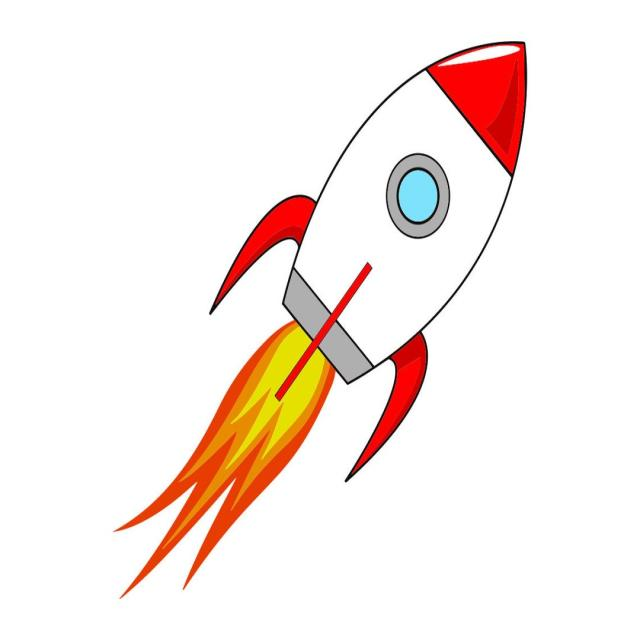medium_debris: (111, 329, 342, 588)
rocket: (195, 30, 544, 513)
